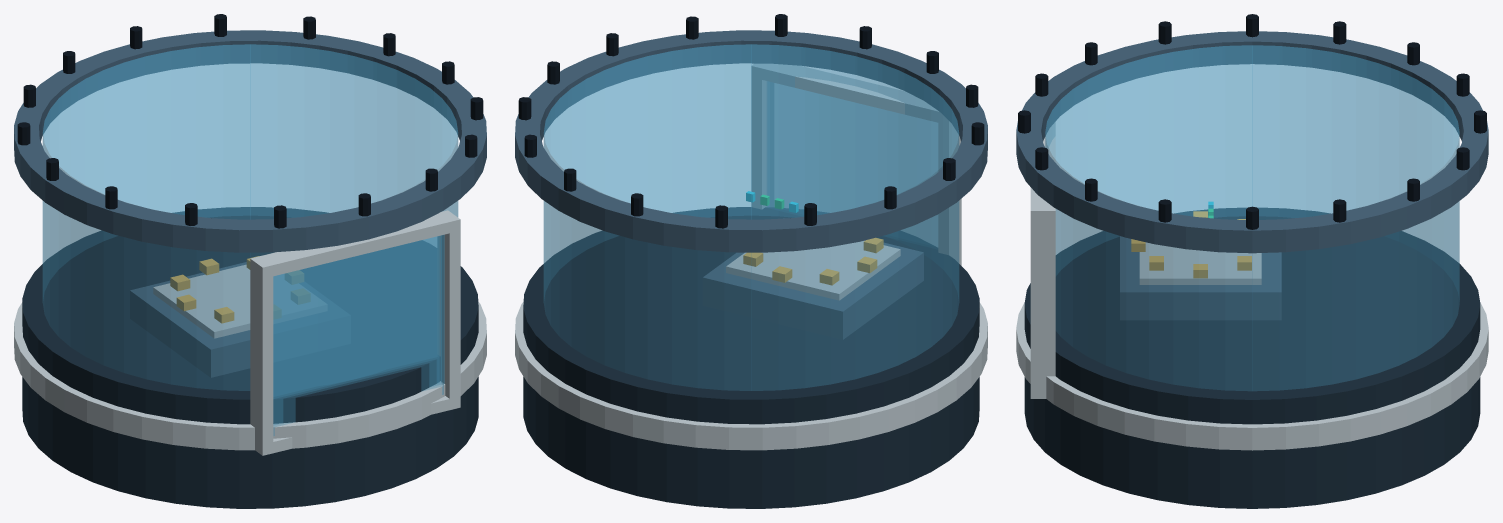
File: 05_L78_HighVacuumWaferLoadLock.fbx
The picture shows the model from 3 angles, left to right: view 1: azimuth 30°, elevation 25°; view 2: azimuth 150°, elevation 25°; view 3: azimuth 270°, elevation 25°; orthographic projection.
Visible parts, largest first — view 1: HighVacuumWaferLoadLock, HighVacuumWaferLoadLock_Part_0036, HighVacuumWaferLoadLock_Part_0037; view 2: HighVacuumWaferLoadLock, HighVacuumWaferLoadLock_Part_0036, HighVacuumWaferLoadLock_Part_0037; view 3: HighVacuumWaferLoadLock, HighVacuumWaferLoadLock_Part_0036, HighVacuumWaferLoadLock_Part_0037.
Boxes of the visible parts, left/top/right/bottom form: HighVacuumWaferLoadLock: left=14, top=14, right=486, bottom=508; HighVacuumWaferLoadLock_Part_0036: left=130, top=262, right=350, bottom=377; HighVacuumWaferLoadLock_Part_0037: left=153, top=265, right=326, bottom=338; HighVacuumWaferLoadLock: left=515, top=14, right=987, bottom=508; HighVacuumWaferLoadLock_Part_0036: left=702, top=242, right=923, bottom=339; HighVacuumWaferLoadLock_Part_0037: left=726, top=240, right=900, bottom=300; HighVacuumWaferLoadLock: left=1016, top=14, right=1488, bottom=508; HighVacuumWaferLoadLock_Part_0036: left=1120, top=236, right=1281, bottom=320; HighVacuumWaferLoadLock_Part_0037: left=1139, top=242, right=1261, bottom=284.
Size of the model in its own units: 228 by 160 by 228.
